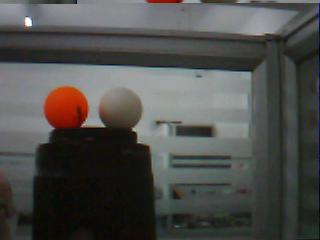oball: (43, 87, 88, 128)
